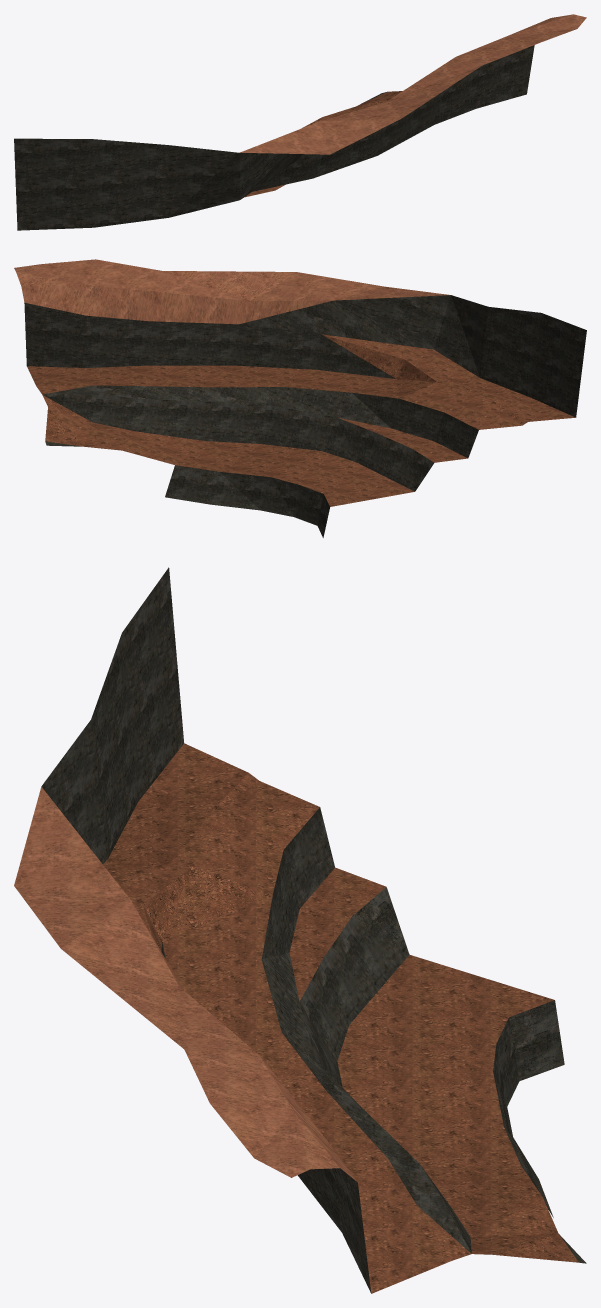
The model's file is quarry_bit05.obj.
The picture shows the model from 3 angles, top to bottom: view 1: azimuth 30°, elevation 25°; view 2: azimuth 150°, elevation 25°; view 3: azimuth 270°, elevation 25°; orthographic projection. The views are drawn at different scales.
Visible parts, largest first — view 1: quarry_bit05; view 2: quarry_bit05; view 3: quarry_bit05.
Part boxes in pixels (x1=…): quarry_bit05: x1=14, y1=14, x2=586, y2=230; quarry_bit05: x1=14, y1=259, x2=586, y2=537; quarry_bit05: x1=14, y1=567, x2=586, y2=1293.
Size of the model in its own units: 235 by 72.32 by 110.
3 materials, 3 textured.
